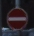No entry: (6, 6, 29, 31)
